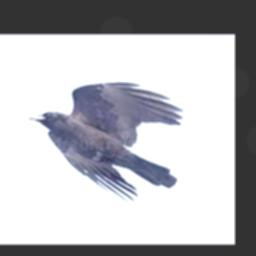Crow: (27, 80, 184, 201)
